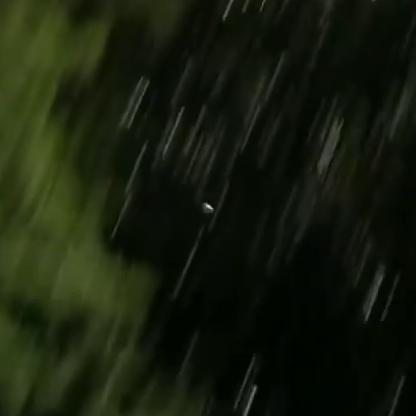golfball: (202, 195, 213, 213)
